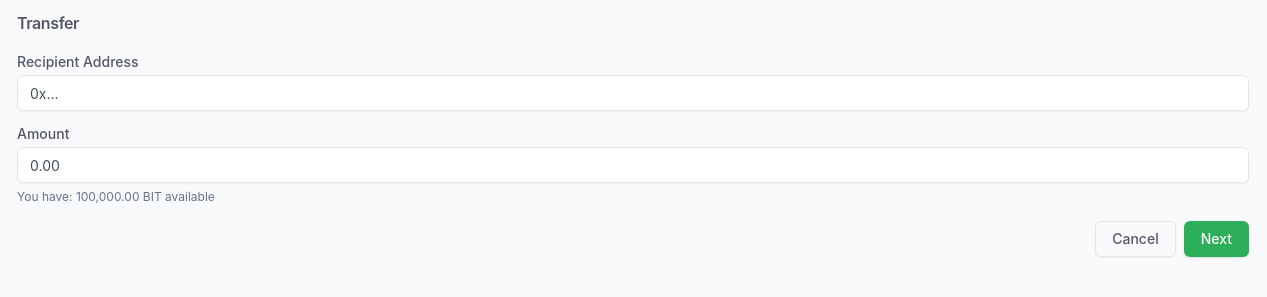
Scenario: TransferForm Component › shows validation error for invalid recipient address
Type "invalid_address" into the field labelled "Recipient Address" at (633, 93), box [17,75,1249,111]
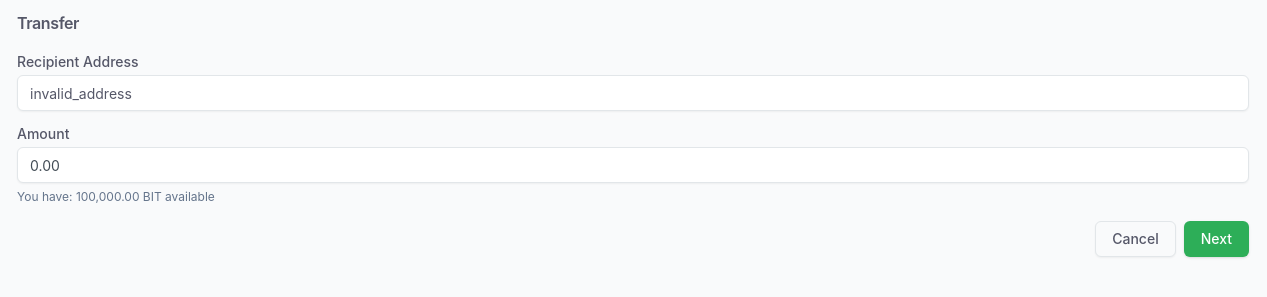
Type "50,000" into the field labelled "Amount" at (633, 165), box [17,147,1249,183]
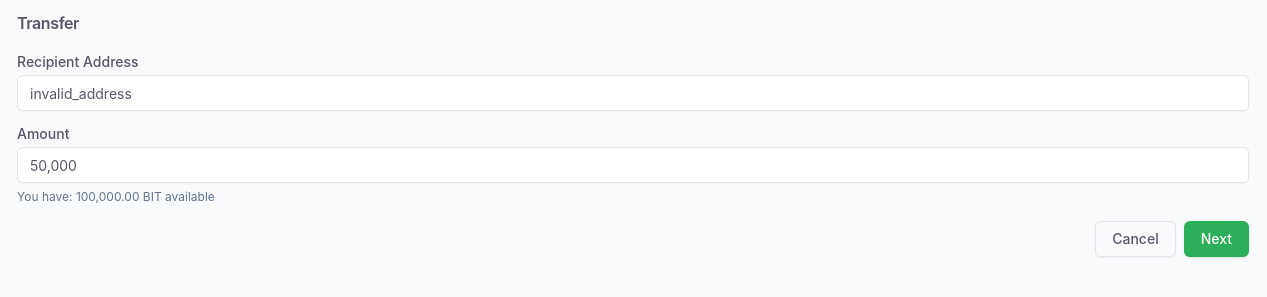
Click the button "Next" at (1216, 239), box [1184,221,1249,257]
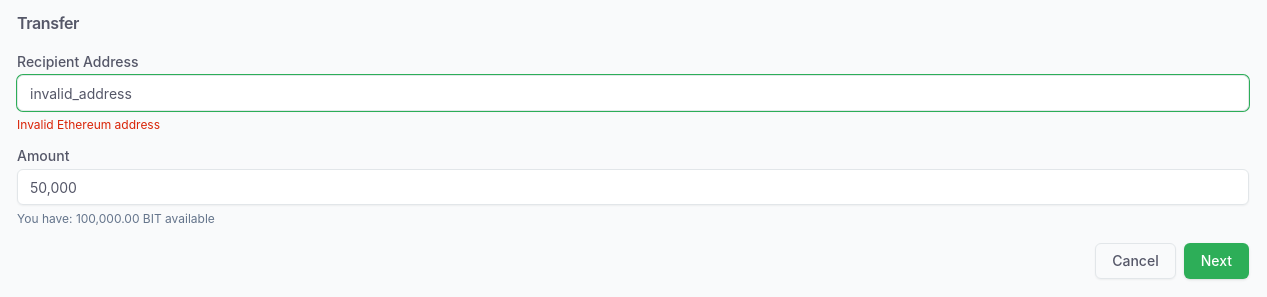
Expected: the text "Invalid Ethereum address" is shown, [17,117,160,132]
